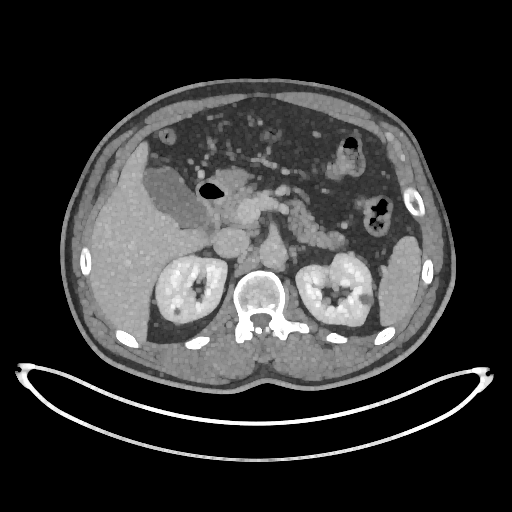Lesion: (360, 294, 374, 305)
